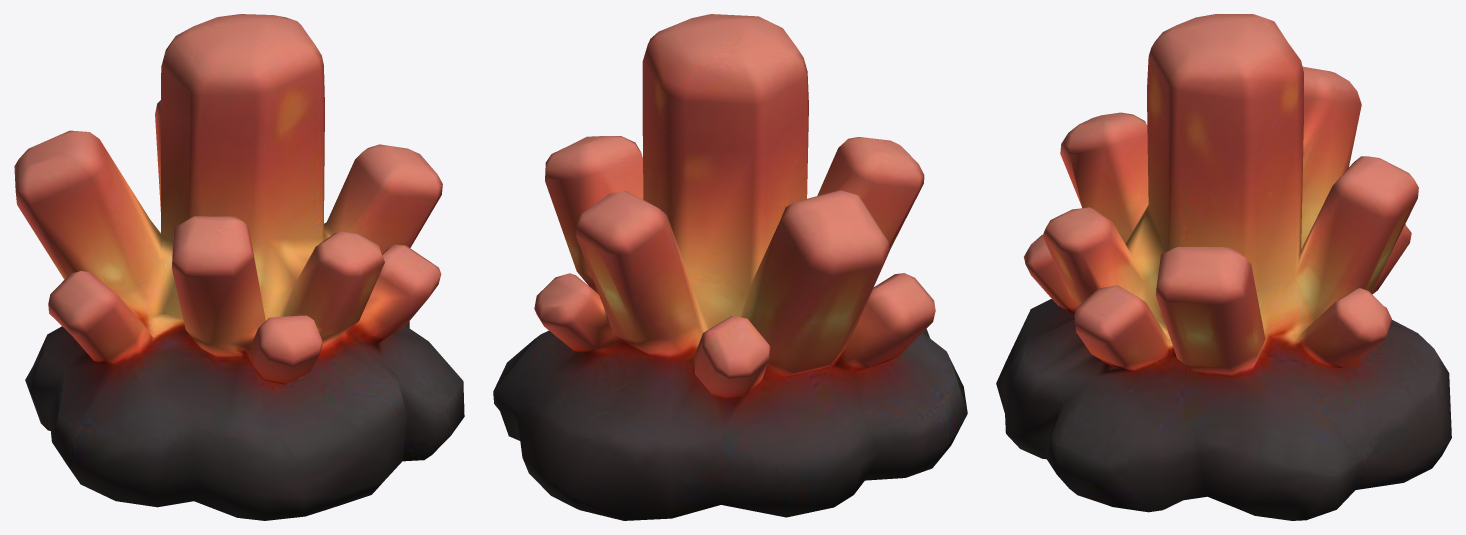
The model's file is crystal.glb.
3 renders of one model, left to right at view 1: azimuth 30°, elevation 25°; view 2: azimuth 150°, elevation 25°; view 3: azimuth 270°, elevation 25°, orthographic. The views are drawn at different scales.
Visible parts, largest first — view 1: tripo_node_13fc8b21-d17f-45d3-b647-e5e0f2aa2ad6; view 2: tripo_node_13fc8b21-d17f-45d3-b647-e5e0f2aa2ad6; view 3: tripo_node_13fc8b21-d17f-45d3-b647-e5e0f2aa2ad6.
Part boxes in pixels (x1,y1,x2,y2): tripo_node_13fc8b21-d17f-45d3-b647-e5e0f2aa2ad6: (14, 14, 464, 520); tripo_node_13fc8b21-d17f-45d3-b647-e5e0f2aa2ad6: (493, 14, 967, 520); tripo_node_13fc8b21-d17f-45d3-b647-e5e0f2aa2ad6: (996, 14, 1451, 520).
Size of the model in its own units: 0.9941 by 0.998 by 0.998.
1 material, 1 textured.
